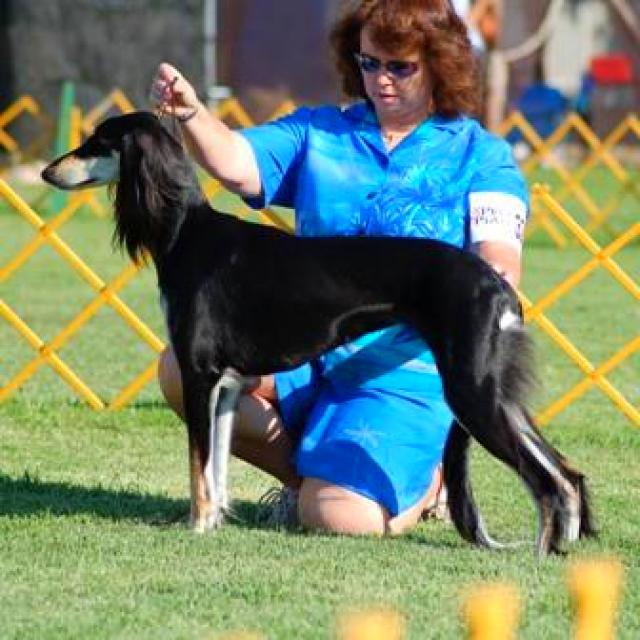saluki: (44, 114, 590, 562)
